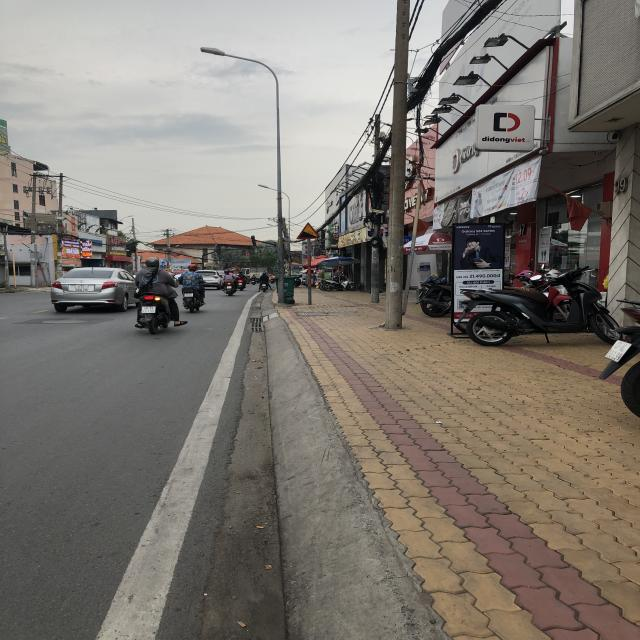Bien bao doc xuong nguy hiem: (296, 221, 322, 242)
